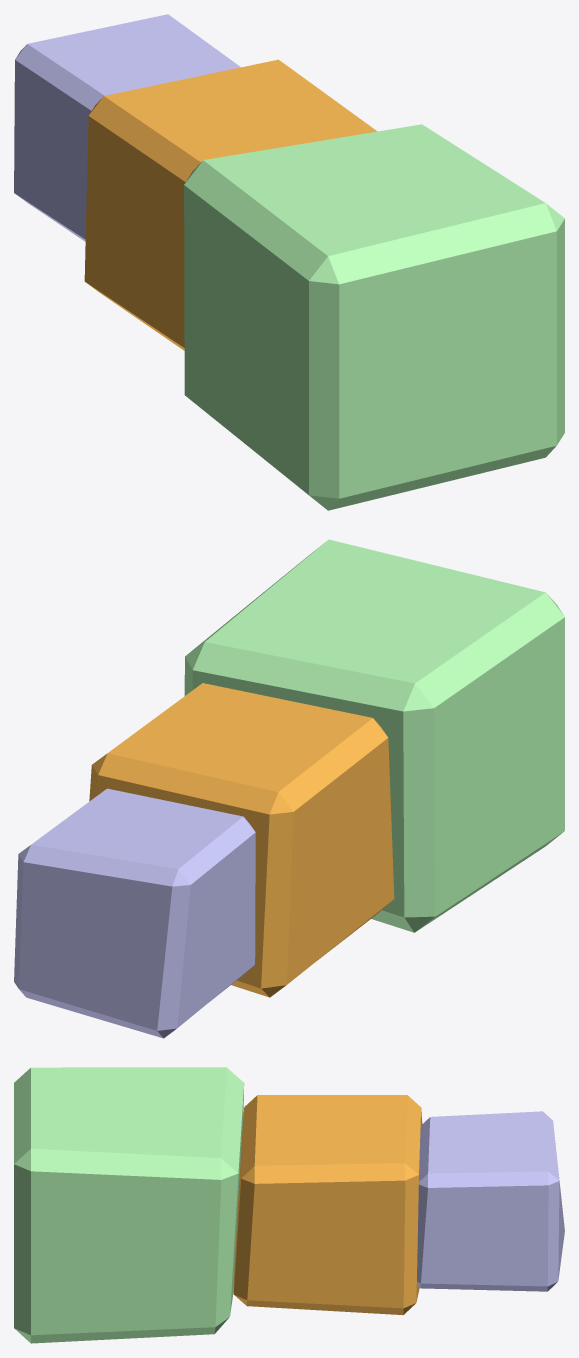
File: Tower.fbx
The picture shows the model from 3 angles, top to bottom: view 1: azimuth 30°, elevation 25°; view 2: azimuth 150°, elevation 25°; view 3: azimuth 270°, elevation 25°; orthographic projection. The views are drawn at different scales.
Visible parts, largest first — view 1: Stone; view 2: Stone; view 3: Stone.
Boxes of the visible parts, <box> form: Stone: <box>14,14,564,510</box>; Stone: <box>14,539,564,1038</box>; Stone: <box>14,1067,564,1343</box>.
Bounding box in the file's own units: 2.04 × 1.91 × 4.87.
